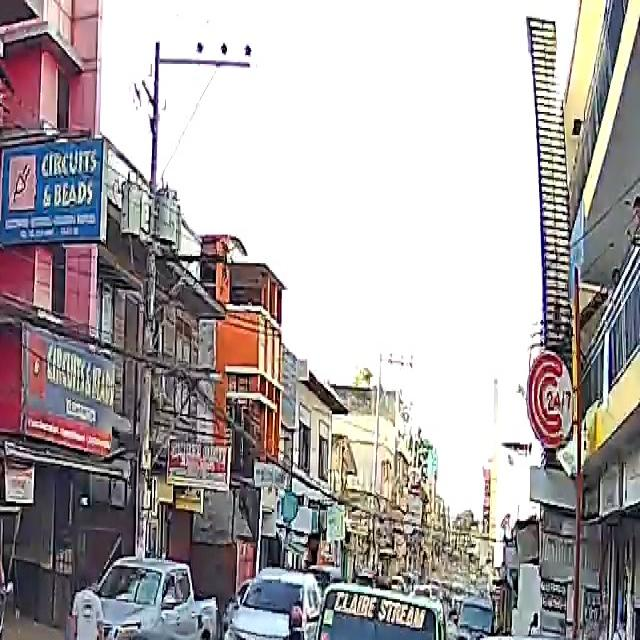car: (75, 554, 216, 640), (225, 567, 325, 640), (236, 571, 327, 622), (457, 633, 639, 640), (2, 638, 251, 640)
